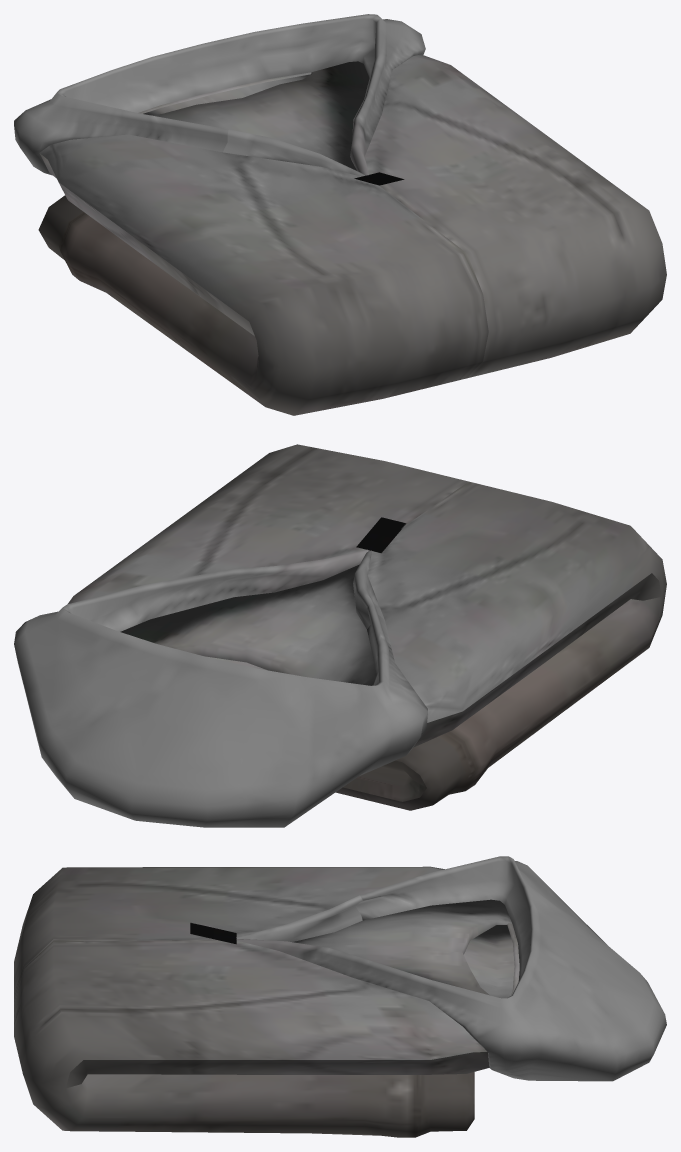
File: hoodie.glb
3 views of the same model, one above another, from view 1: azimuth 30°, elevation 25°; view 2: azimuth 150°, elevation 25°; view 3: azimuth 270°, elevation 25° (orthographic). The views are drawn at different scales.
Parts seen in each view (by area): view 1: hoodie_folded_LOD0; view 2: hoodie_folded_LOD0; view 3: hoodie_folded_LOD0.
Boxes of the visible parts, x1,y1,x2,y2 form: hoodie_folded_LOD0: (14,14,666,415); hoodie_folded_LOD0: (14,444,666,827); hoodie_folded_LOD0: (14,856,666,1137).
Size of the model in its own units: 0.297 by 0.1016 by 0.4435.
Materials: 1 (1 with a texture image).
